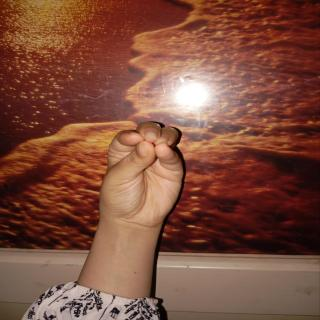HA: (82, 115, 201, 236)
